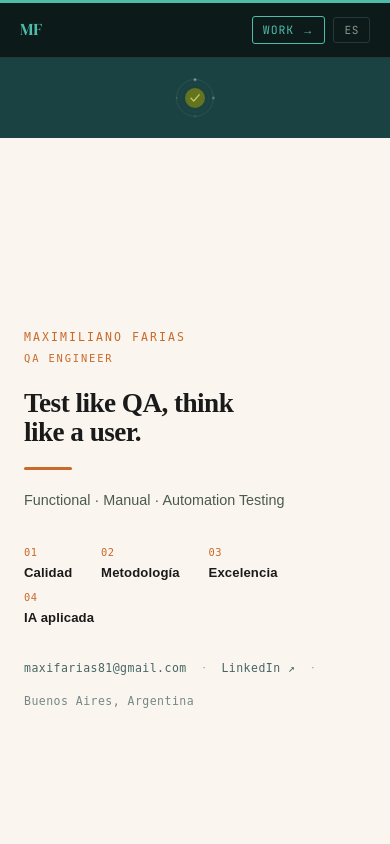
Test case: TC-001 | "Work →" button visibility on mobile › Navigation › work page hero content loads correctly on mobile
Click the link with test id "navBtnWork" at (289,30), box [252,16,326,43]
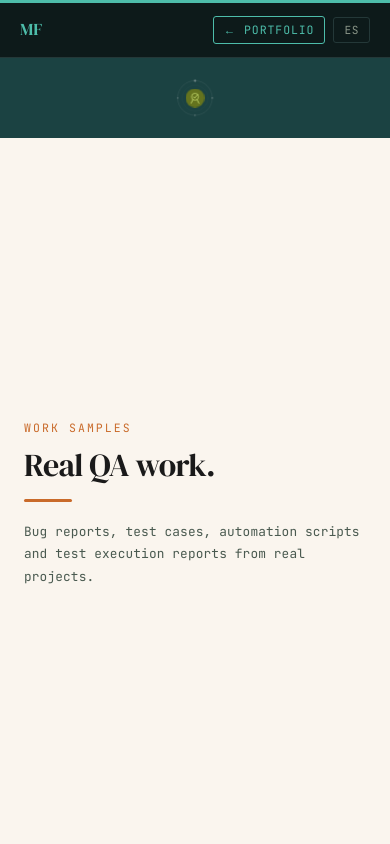
Expected: the element with test id "workHeroSection" is shown
Expected: the heading "Real QA work." is shown, [24,443,215,487]
Expected: the text with test id "workHeroSubtitle" is shown, [24,521,366,588]
